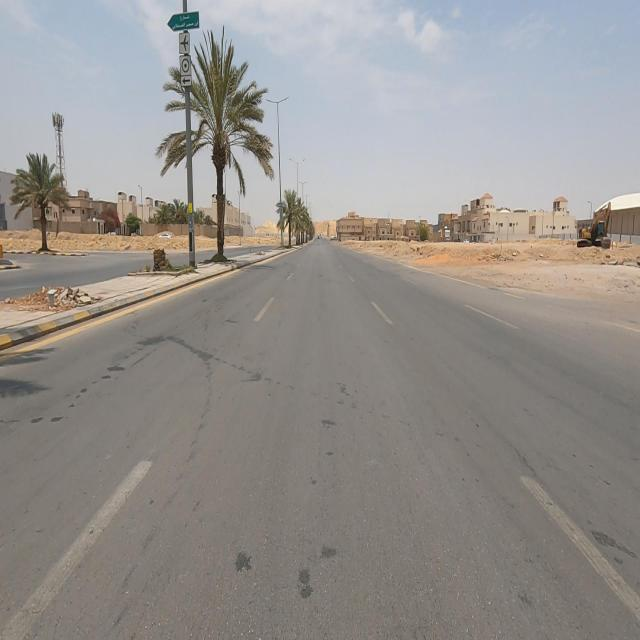debris: (23, 256, 116, 333)
